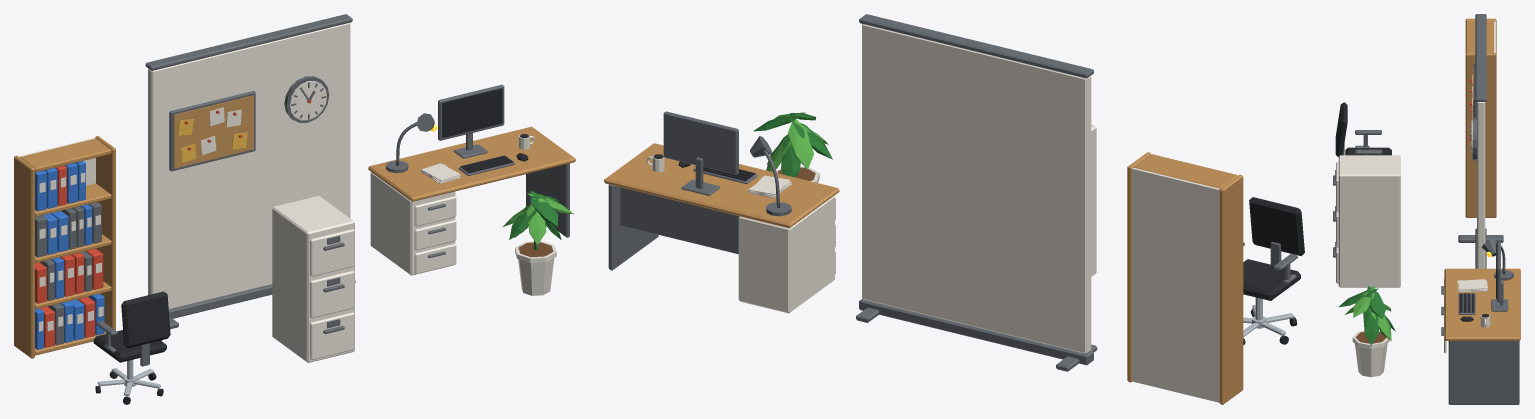
The model's file is office-desk-set.glb.
The picture shows the model from 3 angles, left to right: view 1: azimuth 30°, elevation 25°; view 2: azimuth 150°, elevation 25°; view 3: azimuth 270°, elevation 25°; orthographic projection. The views are drawn at different scales.
Visible parts, largest first — view 1: Panel_Board, Cabinet_Body, Desk_Top, Shelf_Side_L, Desk_Pedestal, Pinboard_Cork, Desk, Shelf_Side_R, Chair_Back, Monitor_Screen, Panel_Cap, Desk_Leg_R (+12 smaller); view 2: Panel_Board, Shelf_Back, Desk_Pedestal, Desk_Top, Shelf_Side_L, Desk_Modesty, Monitor_Body, Panel_Base, Panel_Cap, Chair_Back, Desk_Leg_R, Shelf_Board_4 (+4 smaller); view 3: Cabinet_Body, Desk_Leg_R, Desk_Top, Shelf_Side_R, Panel_Board, Panel_Cap, Plant_Pot, Shelf_Board_4, Chair_Back, Plant_Leaf_1, Plant_Leaf_9, Plant_Leaf_6 (+11 smaller).
Part boxes in pixels (x1,y1,x2,y2): Panel_Board: (148, 22, 350, 309); Cabinet_Body: (272, 196, 354, 362); Desk_Top: (368, 126, 575, 201); Shelf_Side_L: (14, 155, 34, 358); Desk_Pedestal: (370, 172, 455, 275); Pinboard_Cork: (173, 95, 253, 168); Desk: (414, 196, 456, 274); Shelf_Side_R: (95, 136, 115, 330); Chair_Back: (121, 291, 170, 348); Monitor_Screen: (442, 88, 502, 137); Panel_Cap: (145, 14, 352, 70); Desk_Leg_R: (526, 163, 569, 237); Panel_Board: (862, 24, 1091, 353); Shelf_Back: (1132, 167, 1219, 402); Desk_Pedestal: (738, 195, 834, 313); Desk_Top: (604, 143, 839, 228); Shelf_Side_L: (1219, 174, 1243, 404); Desk_Modesty: (620, 187, 738, 254); Monitor_Body: (663, 111, 738, 174); Panel_Base: (859, 298, 1093, 365); Panel_Cap: (859, 14, 1093, 78); Chair_Back: (1249, 197, 1304, 255); Desk_Leg_R: (608, 184, 658, 270); Shelf_Board_4: (1134, 154, 1237, 188); Cabinet_Body: (1338, 155, 1400, 287); Desk_Leg_R: (1448, 341, 1519, 404); Desk_Top: (1444, 268, 1520, 340); Shelf_Side_R: (1465, 53, 1496, 217); Panel_Board: (1477, 102, 1485, 268); Panel_Cap: (1475, 14, 1486, 101); Plant_Pot: (1355, 344, 1387, 377); Shelf_Board_4: (1466, 21, 1493, 52); Chair_Back: (1335, 102, 1347, 157); Plant_Leaf_1: (1363, 306, 1379, 345); Plant_Leaf_9: (1366, 286, 1386, 318); Plant_Leaf_6: (1353, 286, 1375, 317).
Bounding box in the file's own units: 18.74 × 8.65 × 6.63.
